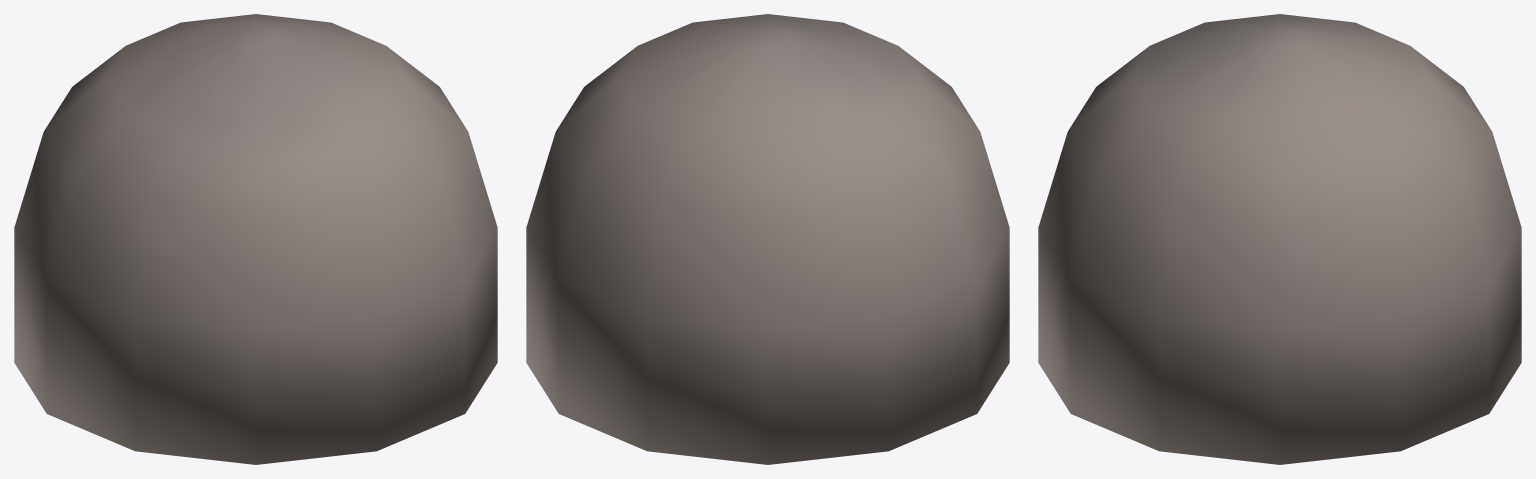
The model's file is Fuse box_Led.fbx.
3 views of the same model, side by side, from view 1: azimuth 30°, elevation 25°; view 2: azimuth 150°, elevation 25°; view 3: azimuth 270°, elevation 25° (orthographic).
Visible parts, largest first — view 1: Led; view 2: Led; view 3: Led.
Part boxes in pixels (x1,y1,x2,y2): Led: [14, 14, 497, 464]; Led: [526, 14, 1009, 464]; Led: [1038, 14, 1521, 464].
Bounding box in the file's own units: 1.26 × 0.9422 × 1.26.
